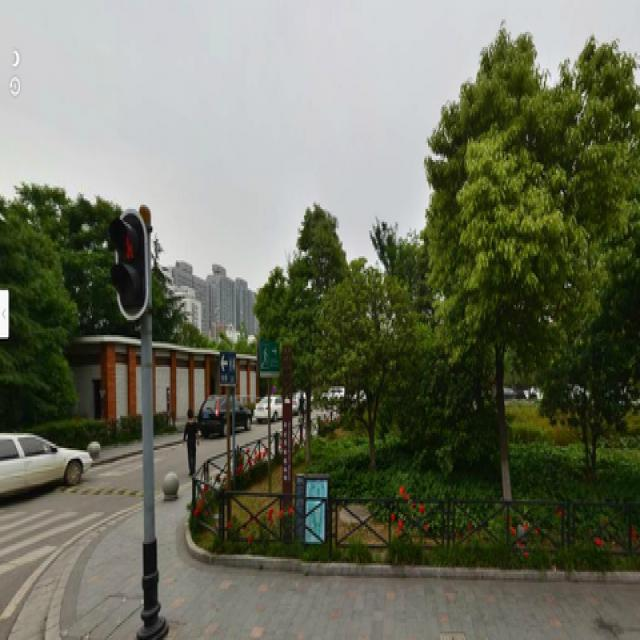cinn: (428, 40, 581, 508)
